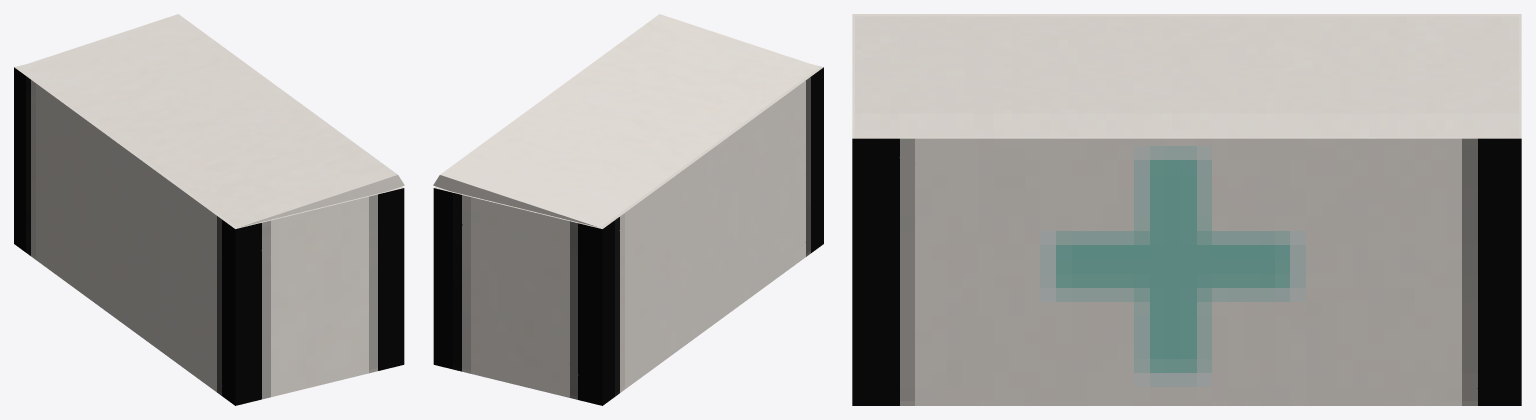
The model's file is health box.glb.
The picture shows the model from 3 angles, left to right: view 1: azimuth 30°, elevation 25°; view 2: azimuth 150°, elevation 25°; view 3: azimuth 270°, elevation 25°; orthographic projection. The views are drawn at different scales.
Visible parts, largest first — view 1: box; view 2: box; view 3: box.
Boxes of the visible parts, x1,y1,x2,y2 form: box: (14, 14, 404, 405); box: (433, 14, 823, 405); box: (852, 14, 1521, 405).
Size of the model in its own units: 0.3743 by 0.4002 by 0.8423.
1 material, 1 textured.
